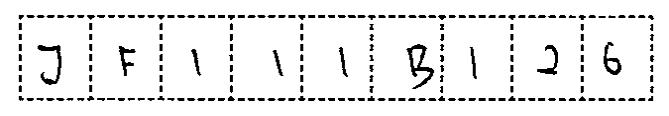1: (456, 41, 490, 86), (179, 43, 216, 84), (260, 42, 294, 84), (329, 42, 358, 87)
2: (530, 39, 566, 80)
6: (591, 38, 633, 81)
B: (400, 38, 437, 92)
F: (112, 39, 142, 81)
J: (30, 40, 68, 88)
